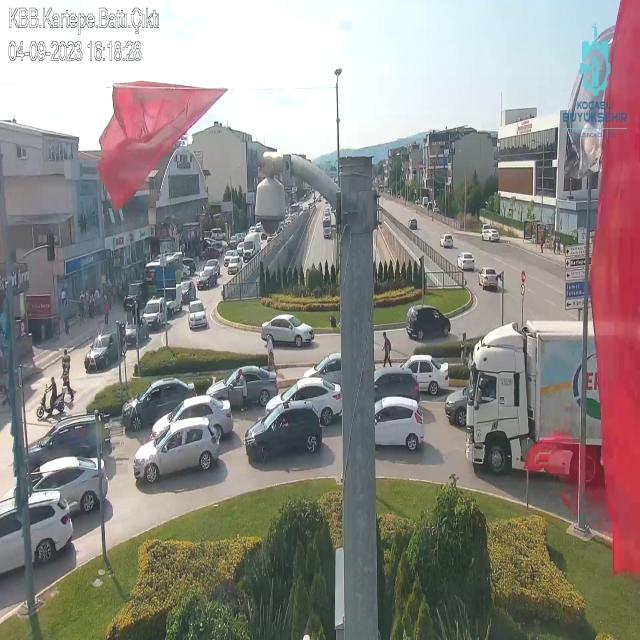Car: (0, 491, 72, 578), (133, 417, 223, 484), (20, 459, 107, 518), (244, 402, 324, 464), (24, 416, 111, 472), (120, 376, 197, 432), (149, 394, 232, 444), (262, 376, 342, 426), (204, 365, 278, 409), (374, 395, 424, 451), (401, 355, 450, 394), (370, 367, 420, 404), (260, 314, 316, 347), (406, 305, 450, 341), (85, 330, 121, 370), (302, 352, 342, 386), (141, 297, 171, 331), (444, 385, 468, 427), (124, 316, 151, 346), (187, 300, 208, 329), (196, 267, 218, 290), (478, 268, 500, 290), (180, 279, 197, 305), (203, 259, 221, 277), (225, 256, 242, 275), (457, 252, 475, 269), (223, 250, 239, 266), (482, 228, 499, 242), (440, 234, 453, 248), (408, 218, 418, 230), (323, 227, 332, 239)
Truck: (465, 317, 603, 465)
